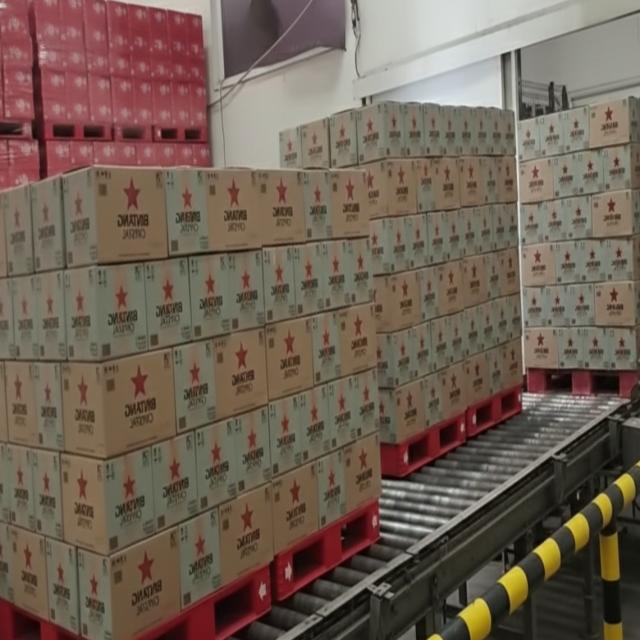pallet: (0, 145, 273, 640), (273, 87, 470, 502), (253, 153, 390, 624), (513, 92, 640, 406), (457, 87, 528, 441)
